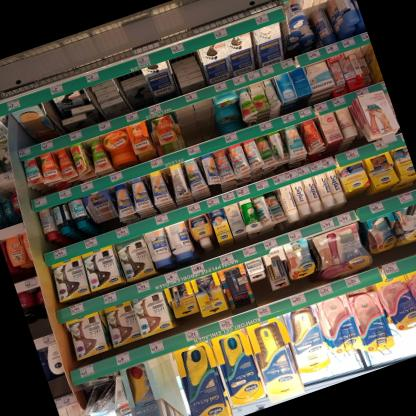empty_space: (173, 100, 206, 144), (195, 96, 217, 137)
